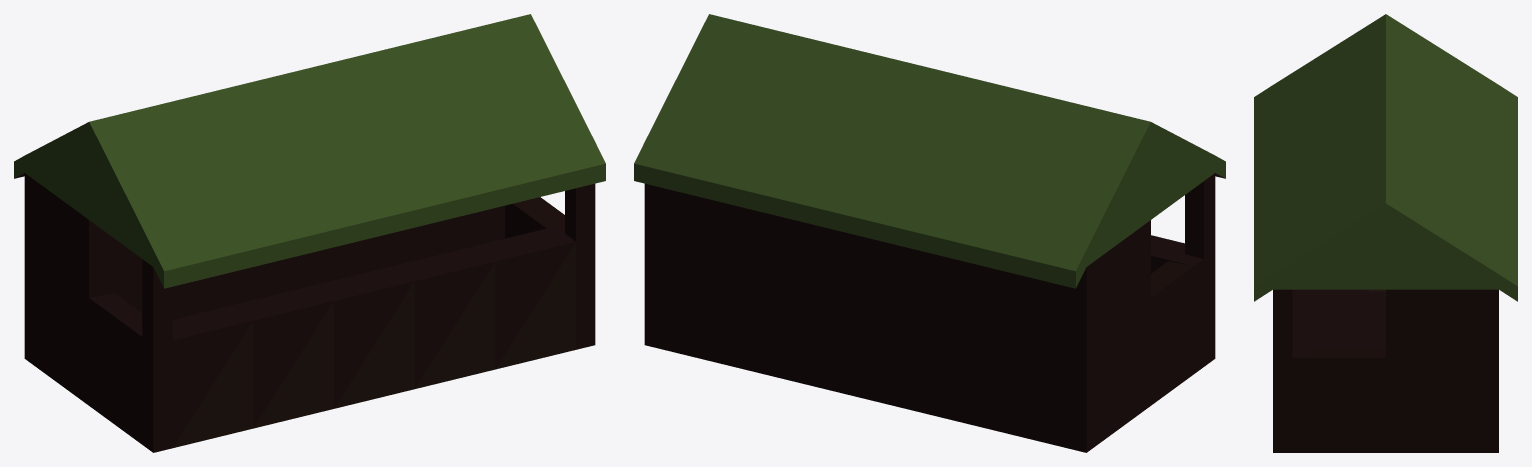
The model's file is shop_3.fbx.
3 renders of one model, left to right at view 1: azimuth 30°, elevation 25°; view 2: azimuth 150°, elevation 25°; view 3: azimuth 270°, elevation 25°, orthographic. The views are drawn at different scales.
Visible parts, largest first — view 1: Cube.010; view 2: Cube.010; view 3: Cube.010.
Boxes of the visible parts, bbox=[...] form: Cube.010: bbox=[14, 14, 605, 452]; Cube.010: bbox=[634, 14, 1225, 452]; Cube.010: bbox=[1254, 14, 1517, 452].
Bounding box in the file's own units: 1203 × 753 × 708.
